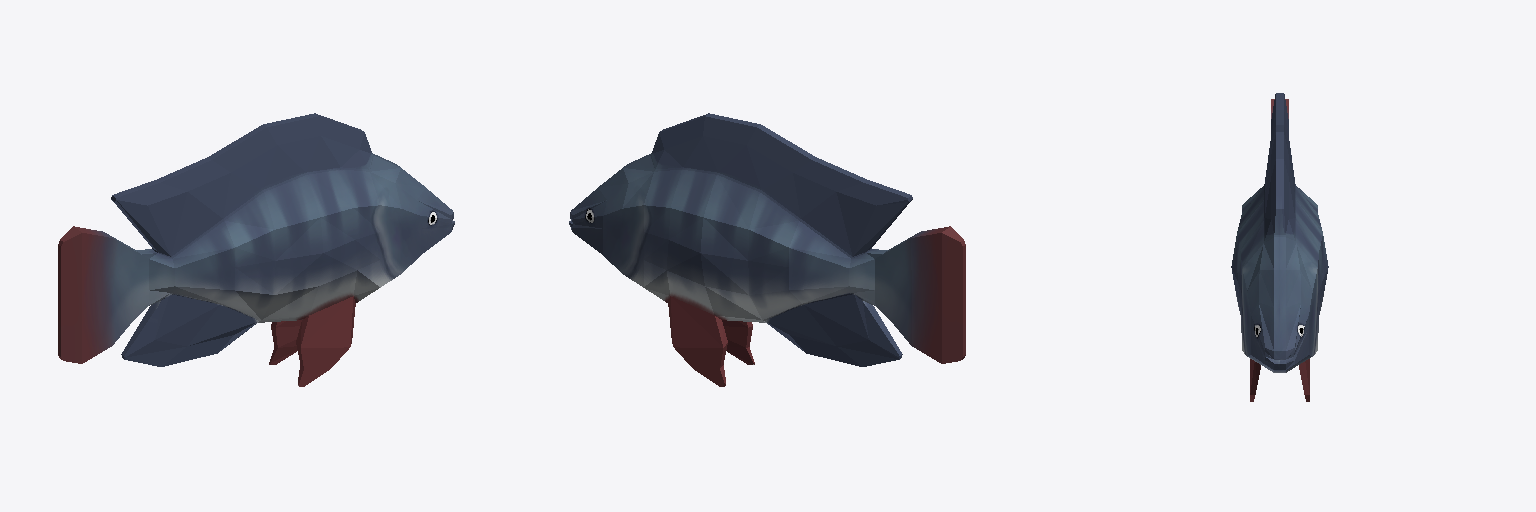
The picture shows the model from 3 angles: view 1: azimuth 30°, elevation 25°; view 2: azimuth 150°, elevation 25°; view 3: azimuth 270°, elevation 25°; orthographic projection.
Visible parts, largest first — view 1: Plane; view 2: Plane; view 3: Plane.
Part boxes in pixels (left/top/right/bottom): Plane: left=58, top=113, right=454, bottom=386; Plane: left=569, top=113, right=965, bottom=386; Plane: left=1231, top=93, right=1328, bottom=401.
Bounding box in the file's own units: 0.6273 × 0.3902 × 0.1347.
Materials: 1 (1 with a texture image).